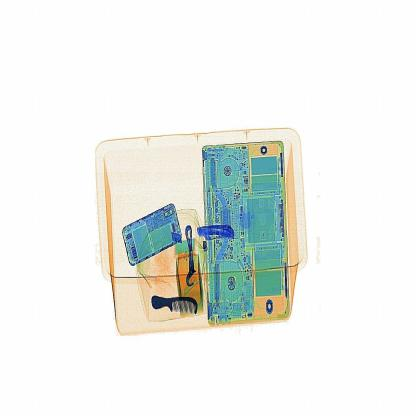knife: (191, 216, 246, 248)
